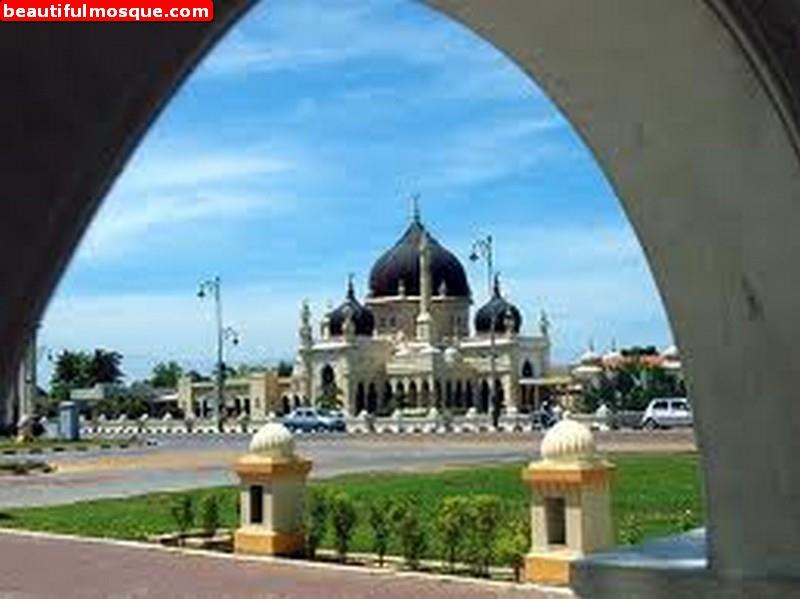Mosque: (278, 202, 546, 403)
